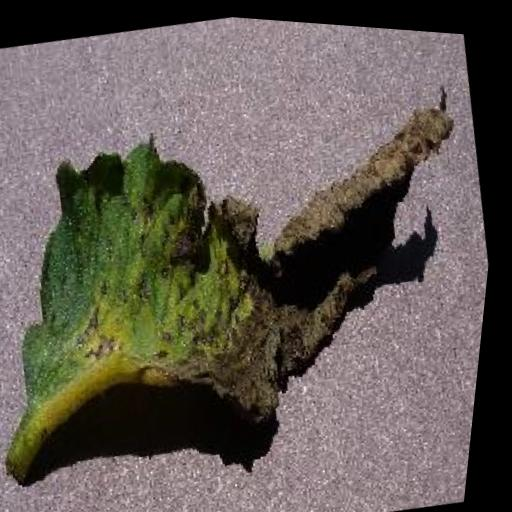Septoria: (0, 53, 508, 507)
